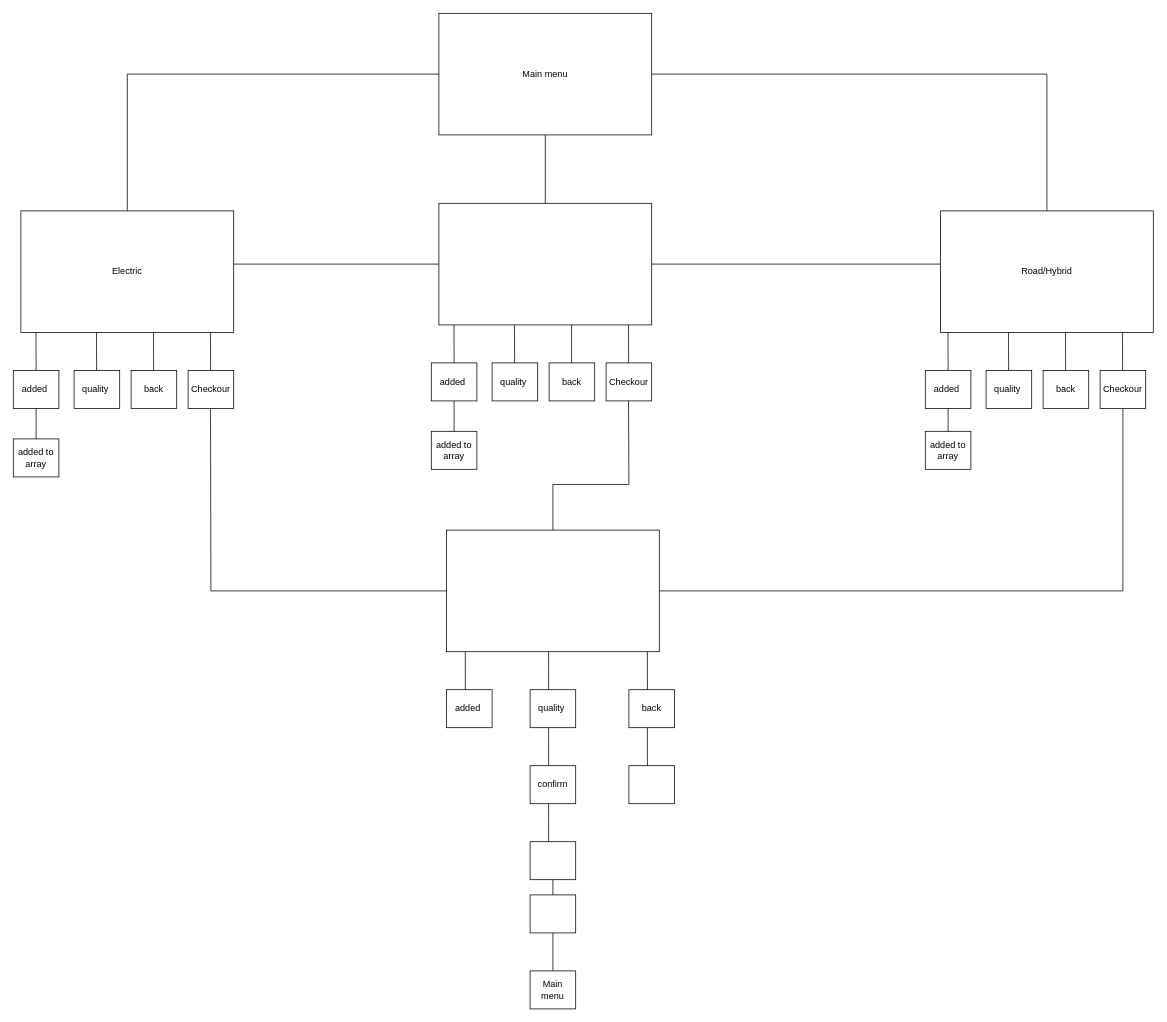
Image size: 1167x1022. Some labels were removed from this diagram. The shapes that lost their labels are listed below. From the top down, each one's box as (x1, y1, x2, y2) in pixels, then its label:
(438, 203, 652, 325): Mountain
(446, 529, 659, 652): checkout
(628, 765, 674, 804): Recalculate costs
(529, 841, 576, 880): add customer info
(529, 894, 576, 933): Print invoice
